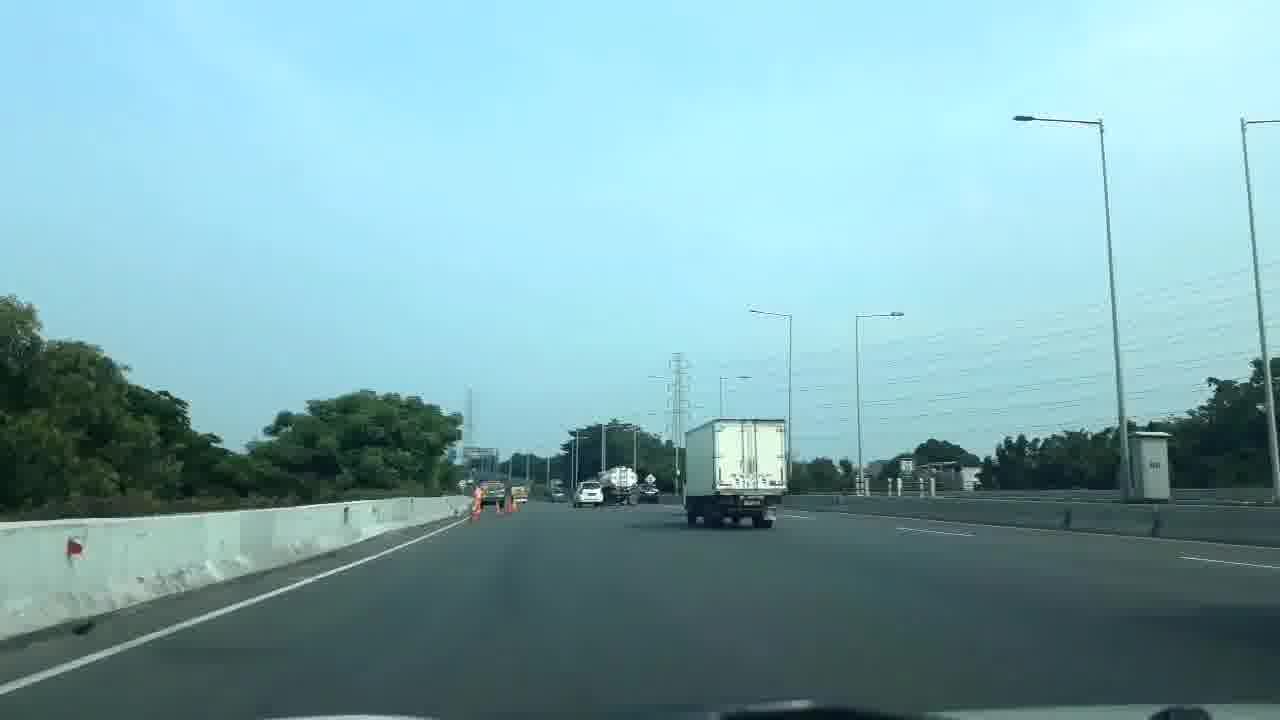plate_positive: (743, 500, 761, 506)
